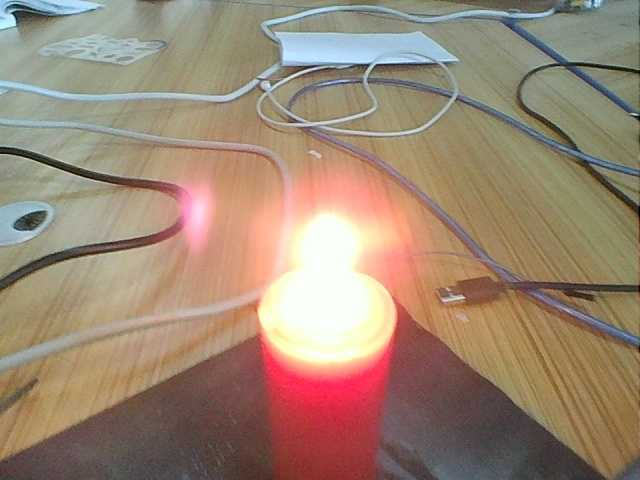candle: (247, 359, 391, 480)
fire: (262, 213, 393, 357)
